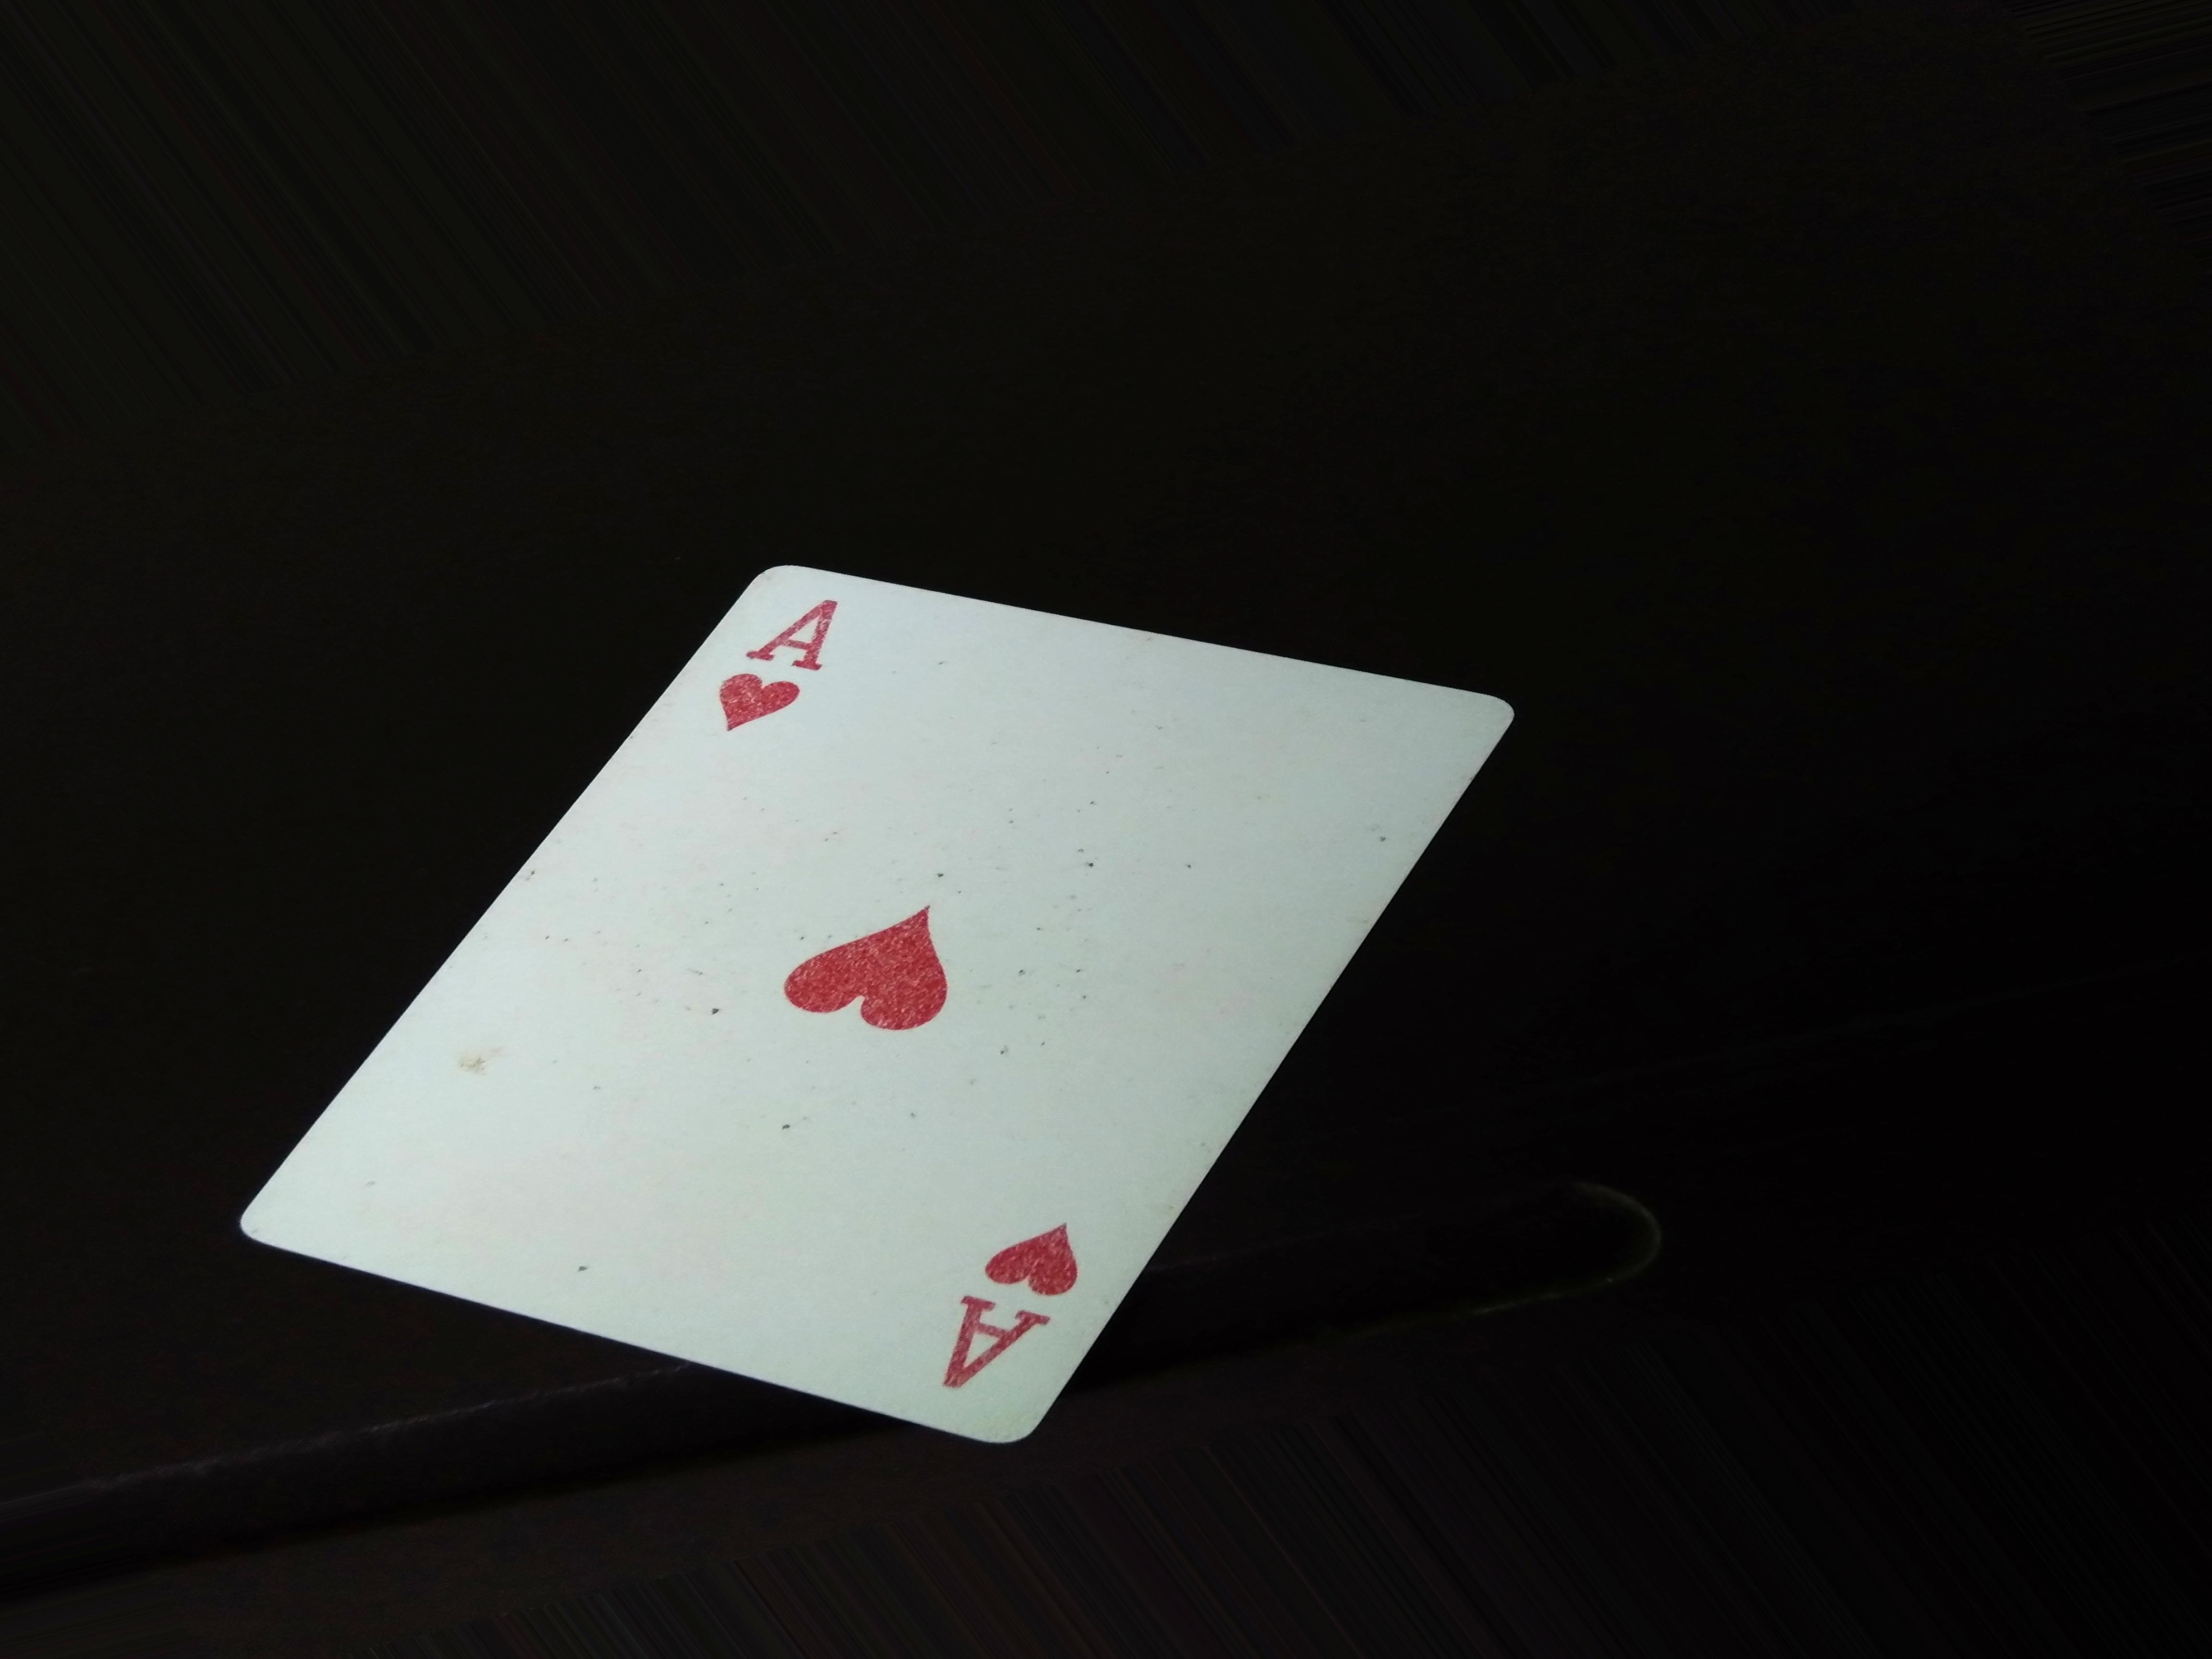AH: (718, 599, 845, 760)
